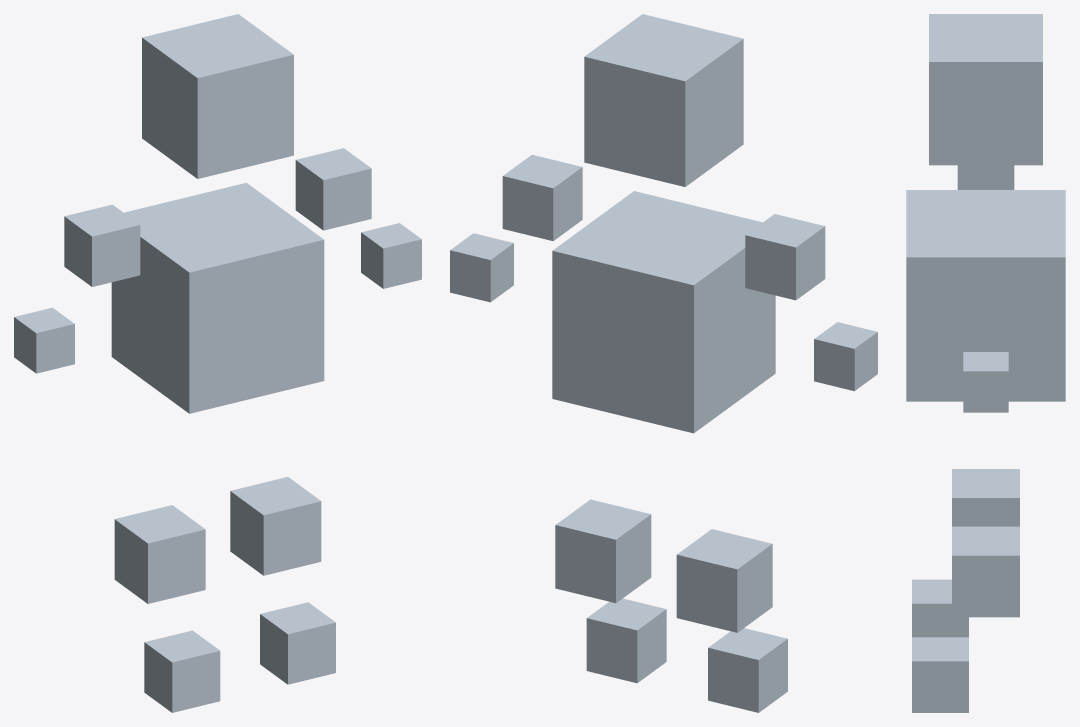
File: griffin_alpine.obj
3 renders of one model, left to right at view 1: azimuth 30°, elevation 25°; view 2: azimuth 150°, elevation 25°; view 3: azimuth 270°, elevation 25°, orthographic. The views are drawn at different scales.
Visible parts, largest first — view 1: griffin_alpine; view 2: griffin_alpine; view 3: griffin_alpine.
Part boxes in pixels (x1,y1,x2,y2): griffin_alpine: (14,14,421,712); griffin_alpine: (450,14,877,712); griffin_alpine: (906,14,1065,712).
Bounding box in the file's own units: 2 × 3.07 × 0.7.
